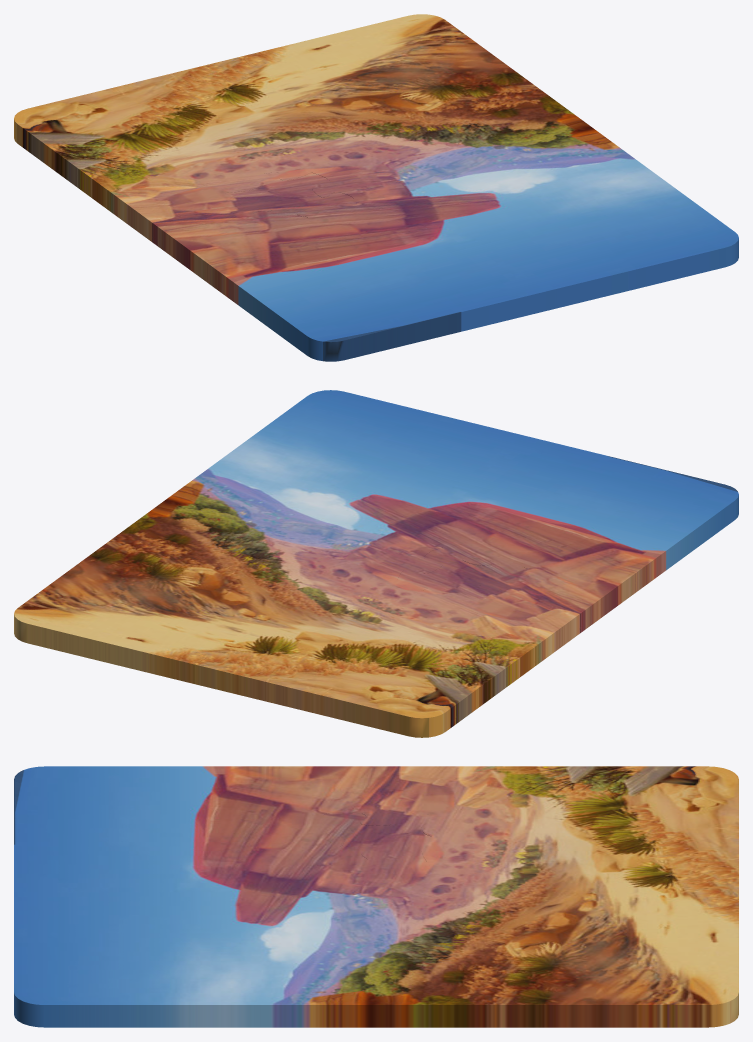
File: Jigsaw Final 7x5 Grid Flat.fbx
The picture shows the model from 3 angles, top to bottom: view 1: azimuth 30°, elevation 25°; view 2: azimuth 150°, elevation 25°; view 3: azimuth 270°, elevation 25°; orthographic projection. The views are drawn at different scales.
Visible parts, largest first — view 1: polySurface90, polySurface85, polySurface87, polySurface89, polySurface83, polySurface120, polySurface100, polySurface130, polySurface110, polySurface149, polySurface140, polySurface148 (+23 smaller); view 2: polySurface149, polySurface148, polySurface147, polySurface143, polySurface120, polySurface130, polySurface100, polySurface110, polySurface145, polySurface90, polySurface140, polySurface128 (+23 smaller); view 3: polySurface122, polySurface93, polySurface83, polySurface133, polySurface143, polySurface103, polySurface111, polySurface148, polySurface112, polySurface108, polySurface128, polySurface147 (+23 smaller).
Part boxes in pixels (box(x1,y1,x2,y2)): polySurface90: box(275, 292, 406, 361); polySurface85: box(532, 230, 663, 303); polySurface87: box(446, 250, 577, 323); polySurface89: box(362, 271, 491, 344); polySurface83: box(618, 209, 738, 282); polySurface120: box(140, 193, 272, 265); polySurface100: box(230, 259, 362, 332); polySurface130: box(95, 159, 225, 233); polySurface110: box(185, 226, 315, 298); polySurface149: box(14, 93, 135, 166); polySurface140: box(49, 127, 179, 199); polySurface148: box(90, 72, 221, 126); polySurface149: box(346, 668, 477, 737); polySurface148: box(260, 647, 391, 720); polySurface147: box(176, 626, 306, 699); polySurface143: box(14, 584, 134, 658); polySurface120: box(479, 569, 612, 641); polySurface130: box(437, 602, 567, 674); polySurface100: box(573, 503, 703, 575); polySurface110: box(528, 536, 657, 608); polySurface145: box(89, 605, 220, 679); polySurface90: box(615, 469, 738, 542); polySurface140: box(392, 636, 522, 708); polySurface128: box(351, 581, 483, 635); polySurface122: box(421, 954, 558, 1027); polySurface93: box(113, 945, 243, 1027); polySurface83: box(14, 955, 143, 1027); polySurface133: box(526, 946, 660, 1027); polySurface143: box(631, 946, 738, 1027); polySurface103: box(218, 946, 330, 1027); polySurface111: box(297, 955, 451, 1027); polySurface148: box(610, 803, 738, 872); polySurface112: box(300, 905, 452, 969); polySurface108: box(198, 803, 344, 871); polySurface128: box(421, 802, 558, 864); polySurface147: box(624, 859, 738, 920).
Bounding box in the file's own units: 18.6 × 0.8156 × 23.88.
1 material, 1 textured.
